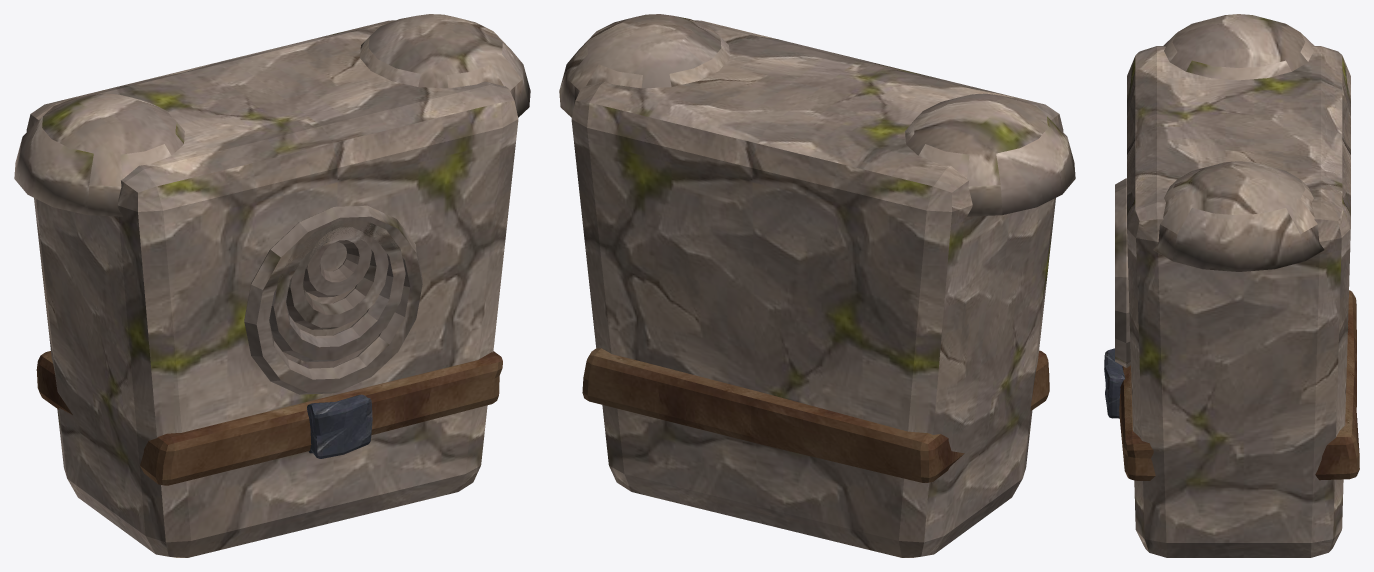
Rendered from plate_shell.glb.
3 views of the same model, side by side, from view 1: azimuth 30°, elevation 25°; view 2: azimuth 150°, elevation 25°; view 3: azimuth 270°, elevation 25° (orthographic). The views are drawn at different scales.
Visible parts, largest first — view 1: model; view 2: model; view 3: model.
Boxes of the visible parts, box(x1,y1,x2,y2) form: model: box(14, 14, 530, 557); model: box(559, 14, 1075, 557); model: box(1104, 14, 1359, 557).
Bounding box in the file's own units: 0.51 × 0.43 × 0.2496.
4 materials, 4 textured.
